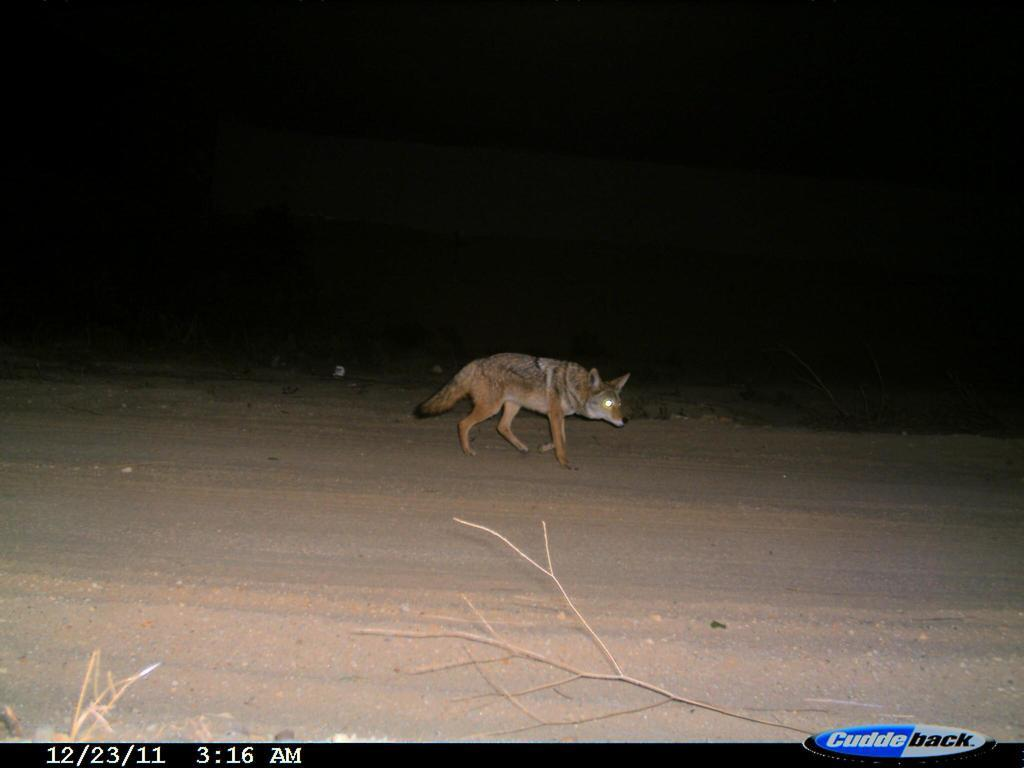coyote: (411, 345, 638, 478)
